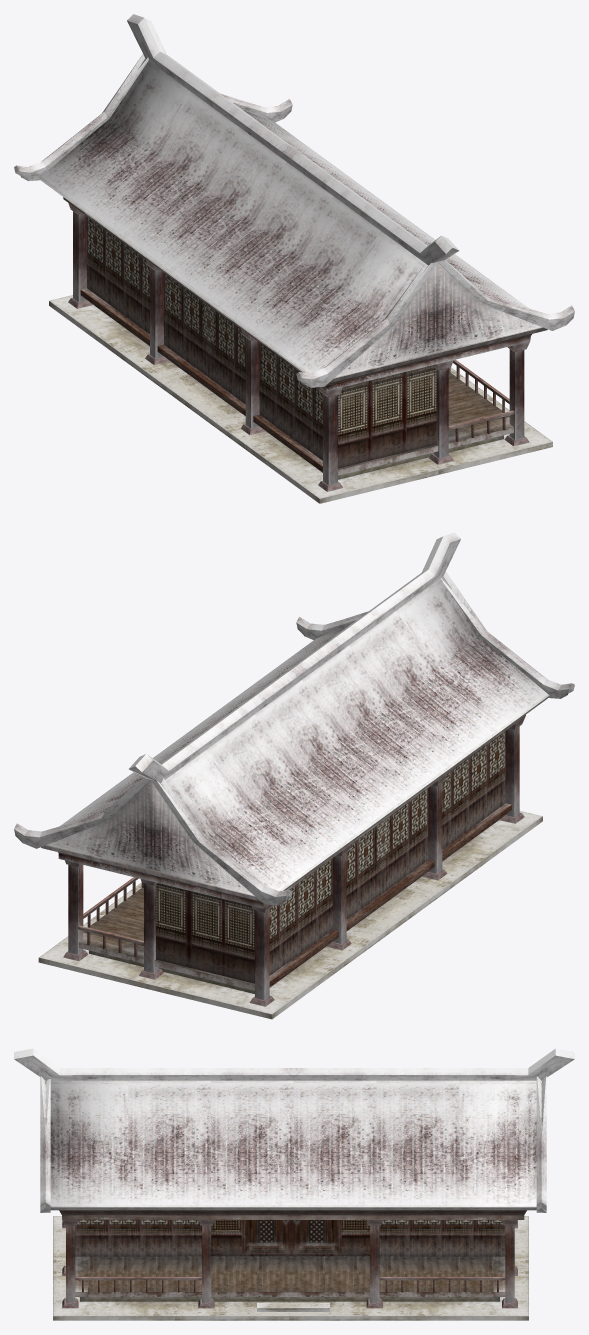
File: snow-033-guesthouse-02.glb
The picture shows the model from 3 angles, top to bottom: view 1: azimuth 30°, elevation 25°; view 2: azimuth 150°, elevation 25°; view 3: azimuth 270°, elevation 25°; orthographic projection. The views are drawn at different scales.
Visible parts, largest first — view 1: snow-033-guesthouse-01, snow-033-guesthouse-02; view 2: snow-033-guesthouse-01, snow-033-guesthouse-02; view 3: snow-033-guesthouse-01, snow-033-guesthouse-02.
Part boxes in pixels (x1,y1,x2,y2): snow-033-guesthouse-01: [14, 14, 574, 491]; snow-033-guesthouse-02: [49, 211, 552, 503]; snow-033-guesthouse-01: [14, 532, 574, 1006]; snow-033-guesthouse-02: [38, 726, 542, 1019]; snow-033-guesthouse-01: [14, 1048, 574, 1311]; snow-033-guesthouse-02: [53, 1210, 528, 1320].
Bounding box in the file's own units: 13.56 × 11.85 × 27.45.
Materials: 2 (2 with a texture image).
